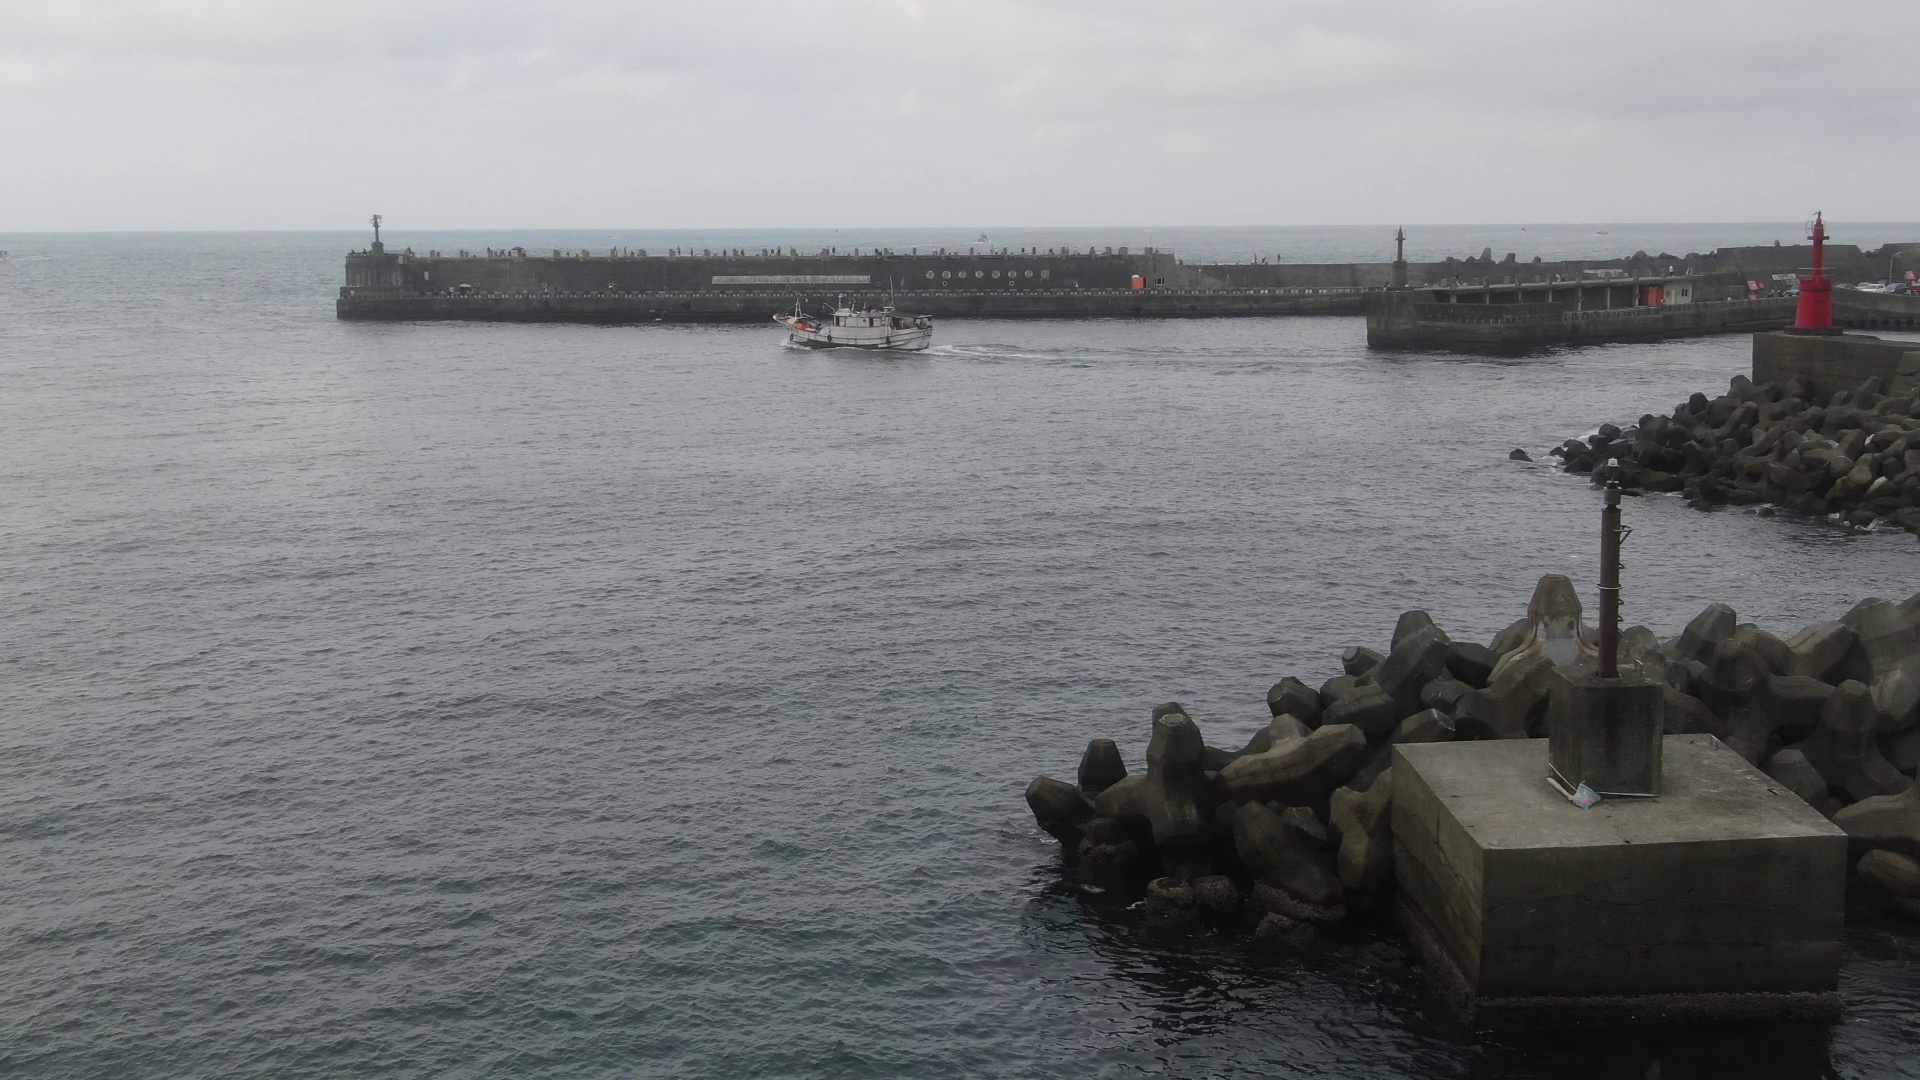garbage: (1539, 767, 1611, 818)
